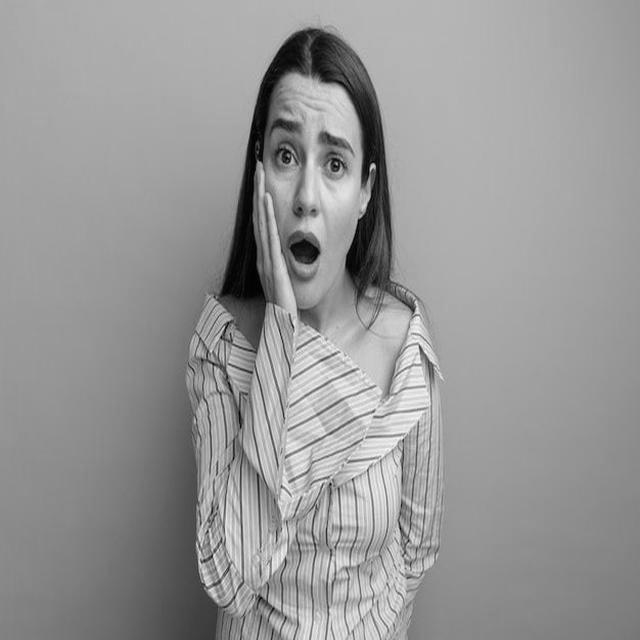Fear: (264, 71, 362, 310)
